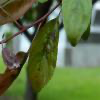Apple Scab Leaf: (29, 20, 62, 97), (60, 0, 94, 50)
